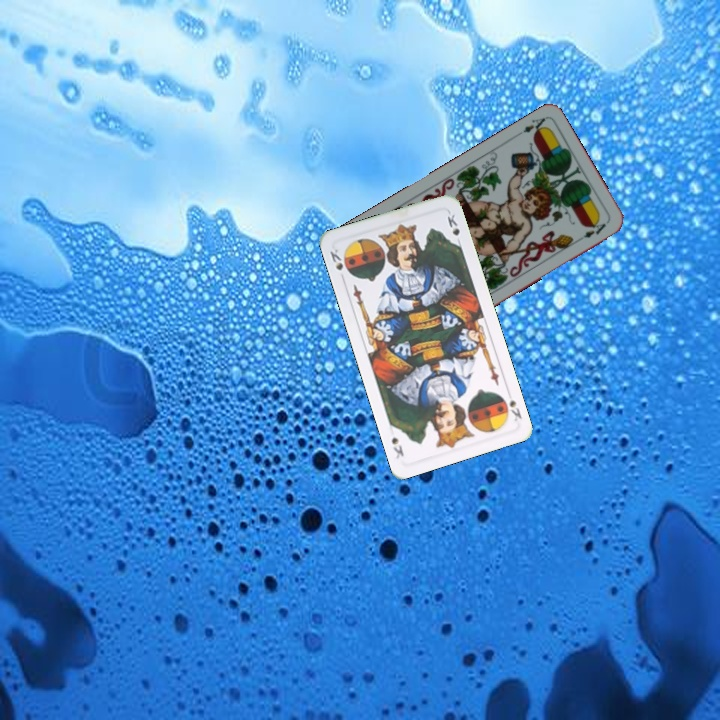EA: (511, 113, 550, 139)
SK: (497, 386, 524, 424), (326, 245, 346, 273)
